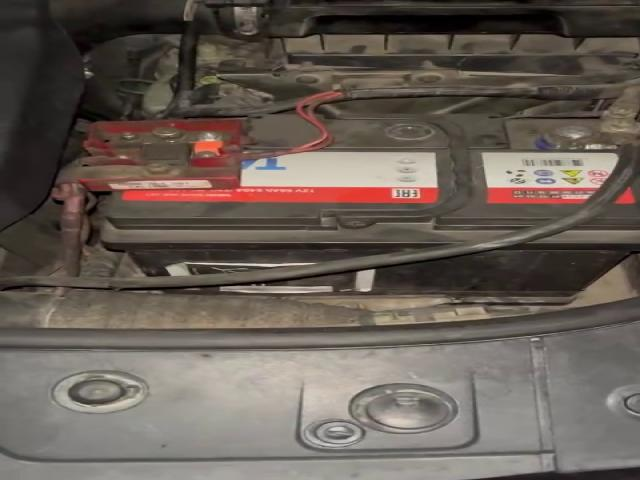accumulator: (47, 115, 634, 305)
